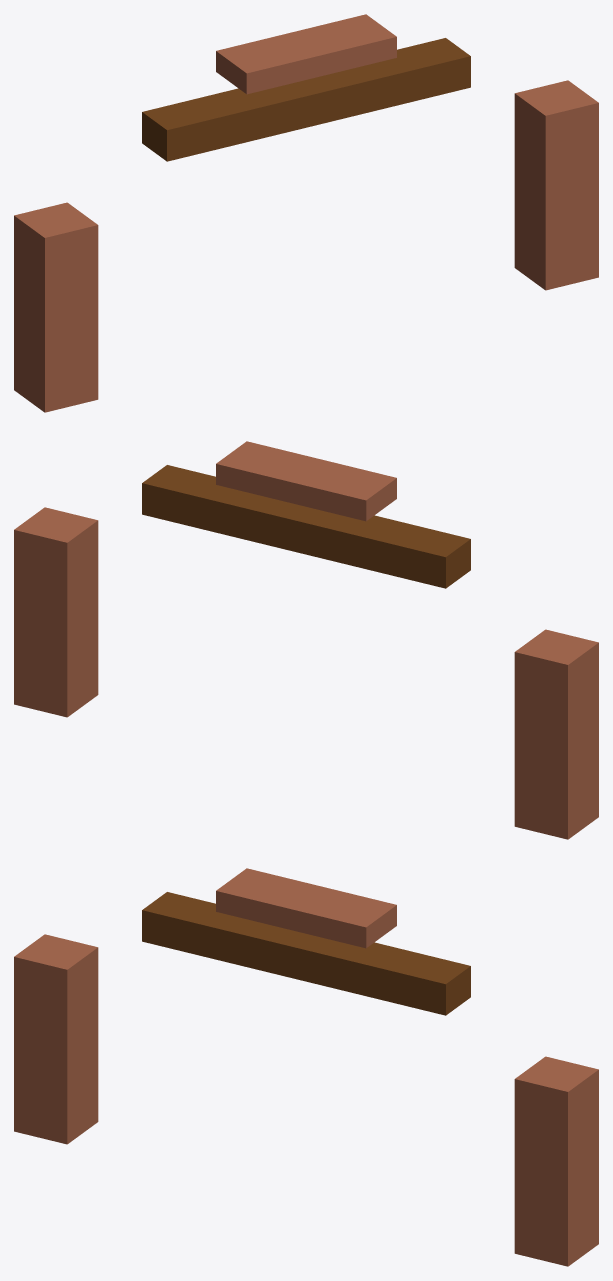
Rendered from arch_terracotta.glb.
3 views of the same model, one above another, from view 1: azimuth 30°, elevation 25°; view 2: azimuth 150°, elevation 25°; view 3: azimuth 330°, elevation 25° (orthographic).
Visible parts, largest first — view 1: Cube; view 2: Cube; view 3: Cube.
Part boxes in pixels (box(x1,y1,x2,y2)): Cube: box(14, 14, 598, 412); Cube: box(14, 441, 598, 839); Cube: box(14, 868, 598, 1266).
Bounding box in the file's own units: 3.15 × 1.58 × 0.304.
